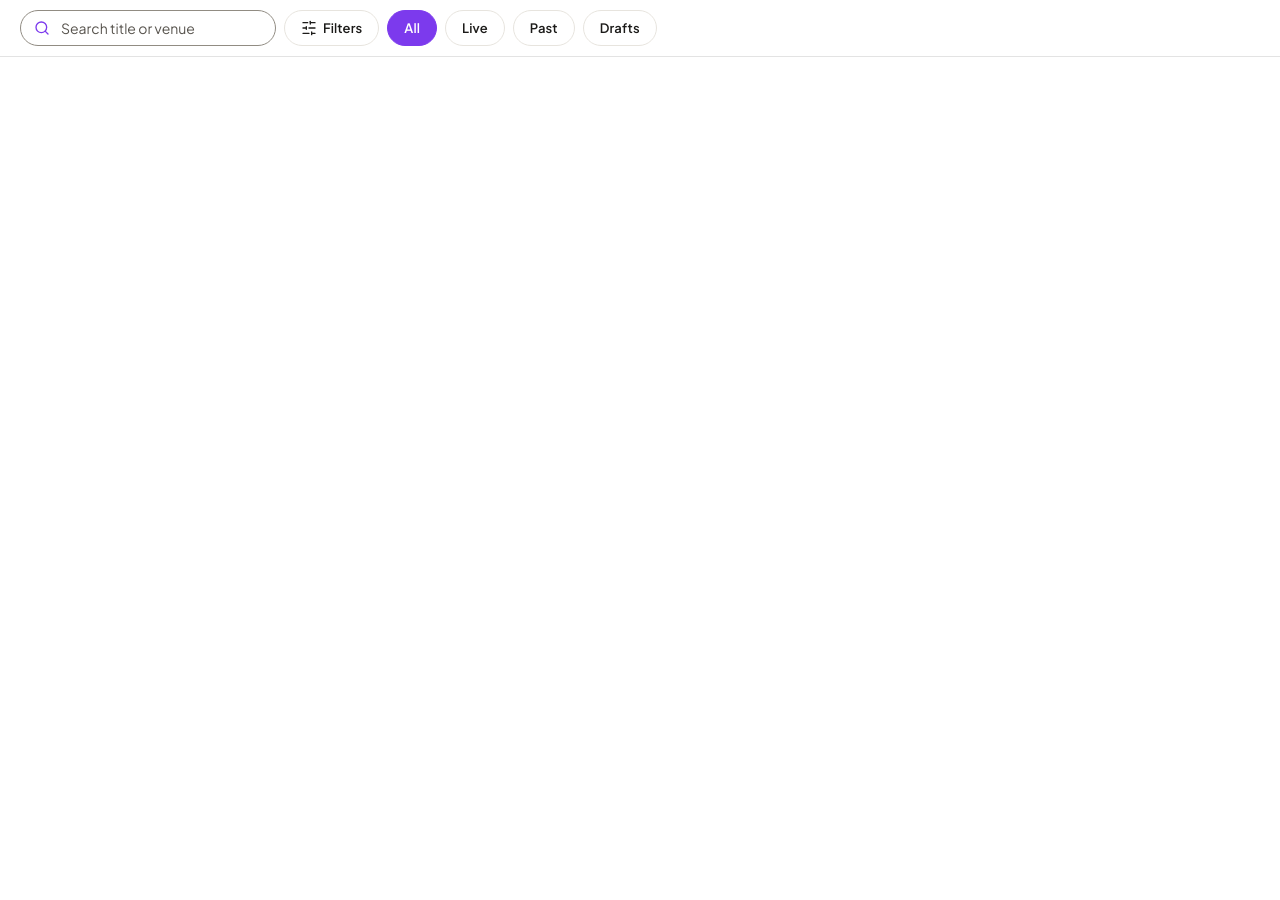
the sheet › opens as a dialog instead of expanding inline
The width and height of the screenshot is (1280, 900).
Step 1. Click the button "Filters" → (332, 28), box [284, 10, 379, 46]
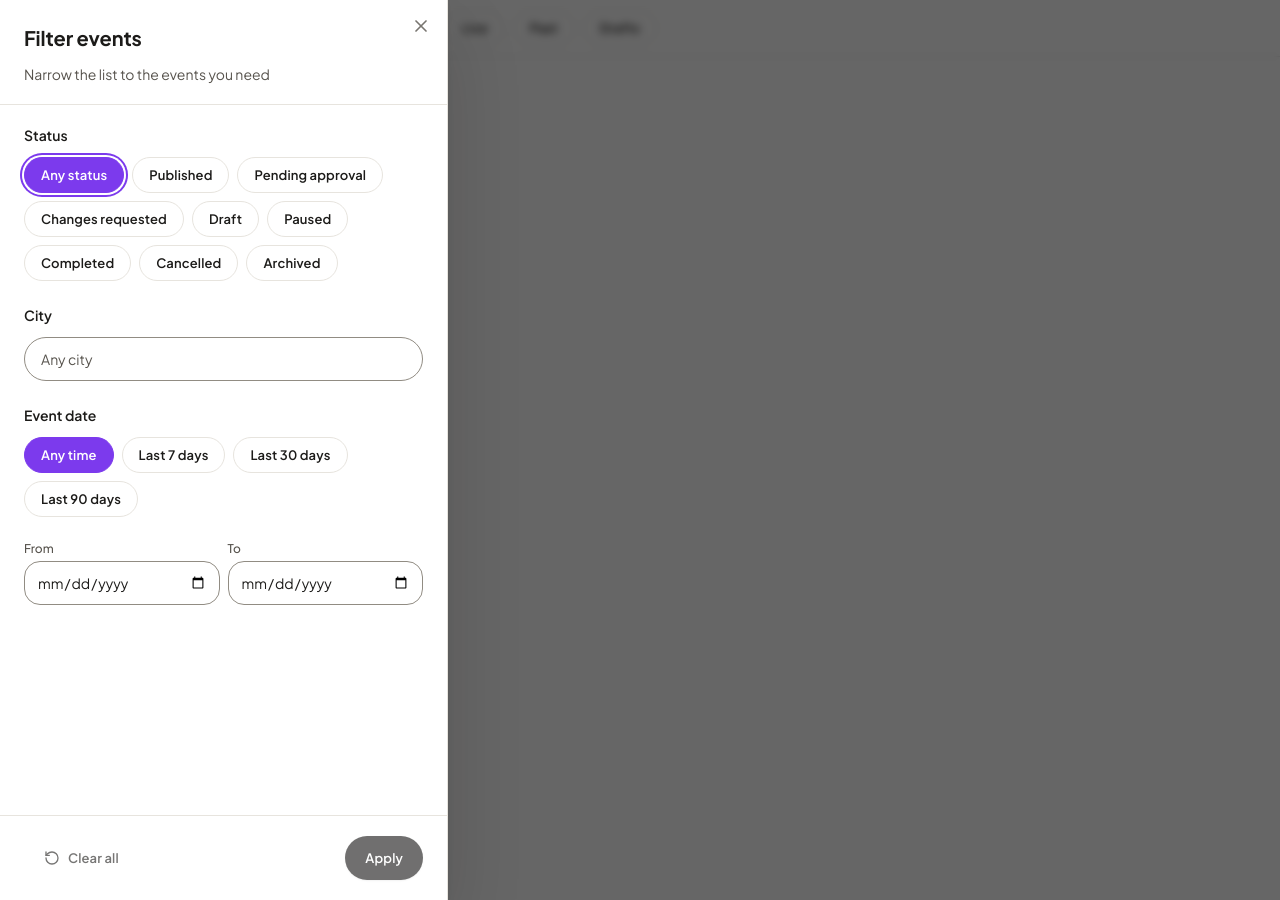
Check: the dialog "Filter events" is shown, box [0, 0, 448, 899]
